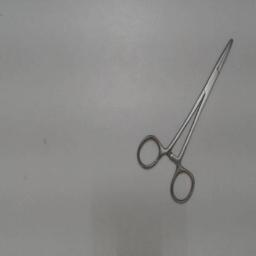Mayo Needle Holder: (132, 28, 240, 214)
